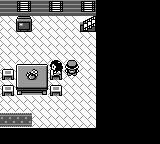leer: (15, 17, 32, 32)
main: (64, 60, 79, 76)
no-caminable: (0, 2, 159, 142), (0, 1, 95, 16), (16, 65, 48, 95)
npc: (50, 60, 63, 77)
puerta: (0, 111, 35, 128), (80, 17, 96, 32)
